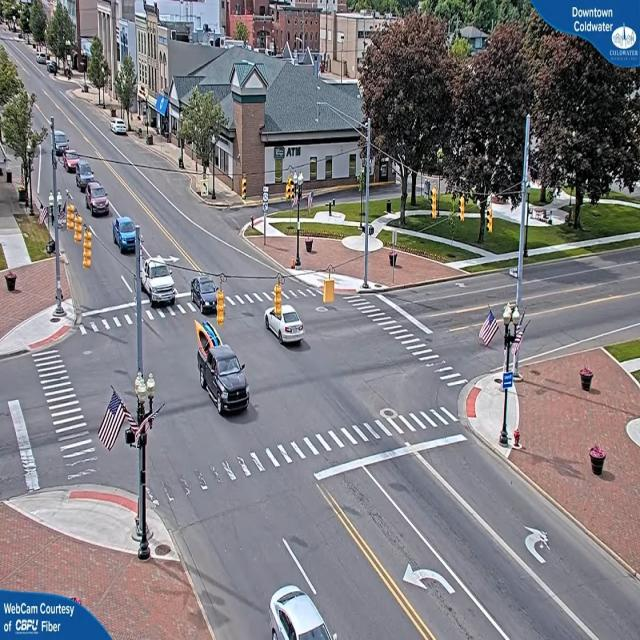car: (265, 583, 355, 638), (196, 329, 250, 416), (144, 259, 178, 310), (264, 302, 304, 342), (113, 217, 141, 253), (192, 280, 220, 314), (85, 184, 111, 216), (53, 130, 69, 157), (63, 153, 79, 175), (112, 120, 130, 138)
